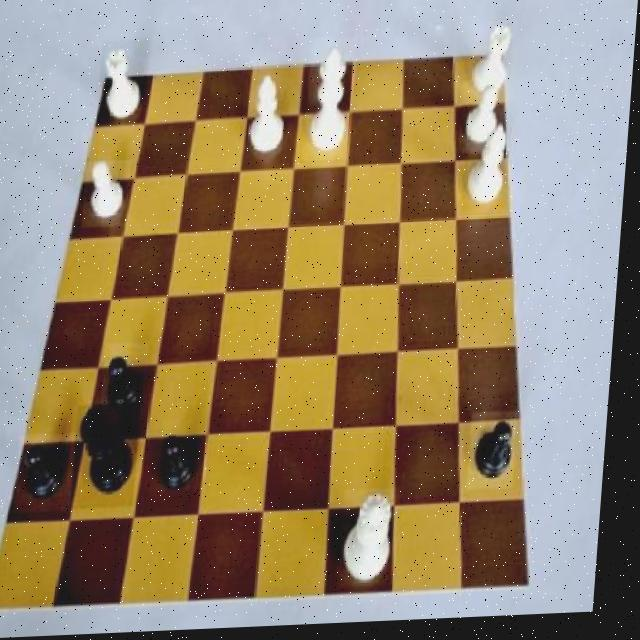black-bishop: (78, 405, 147, 511)
black-knight: (22, 435, 84, 514), (473, 416, 524, 495), (107, 345, 155, 424), (157, 426, 208, 500)
black-rook: (465, 118, 515, 216), (243, 70, 295, 157)
white-bishop: (305, 40, 357, 164)
white-knight: (347, 492, 409, 591), (461, 85, 508, 161), (85, 161, 134, 229)
white-queen: (99, 41, 151, 125), (467, 25, 517, 106)
